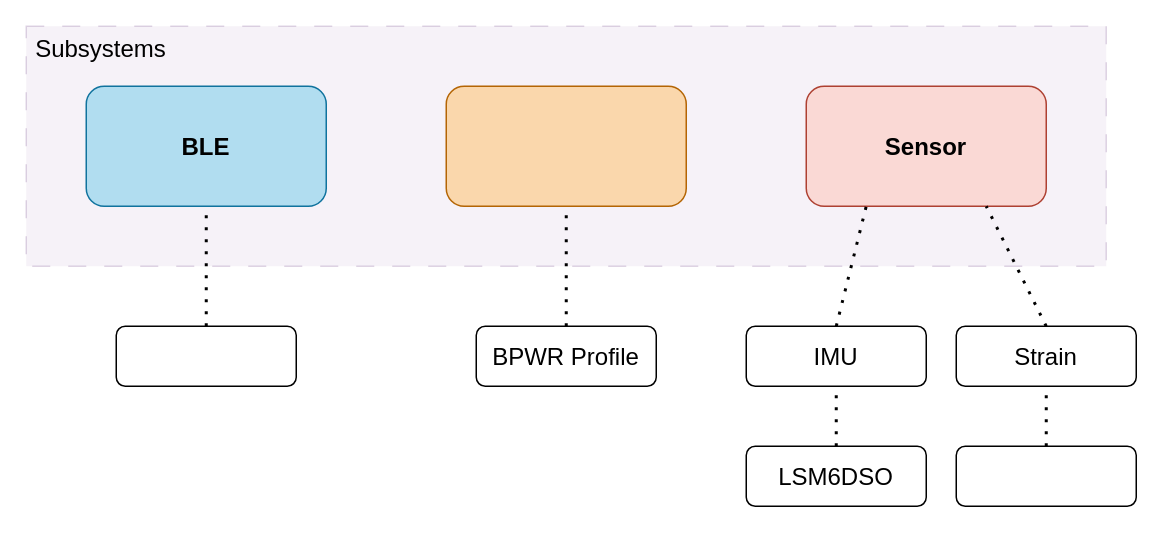
Image size: 1163x533. Some labels were removed from this diagram. Here are the shapes that lost their labels. From the top down, the centre of each, then its label:
the point at 565,145: ANT+
the point at 205,355: BLE Services
the point at 1045,475: AD779X
